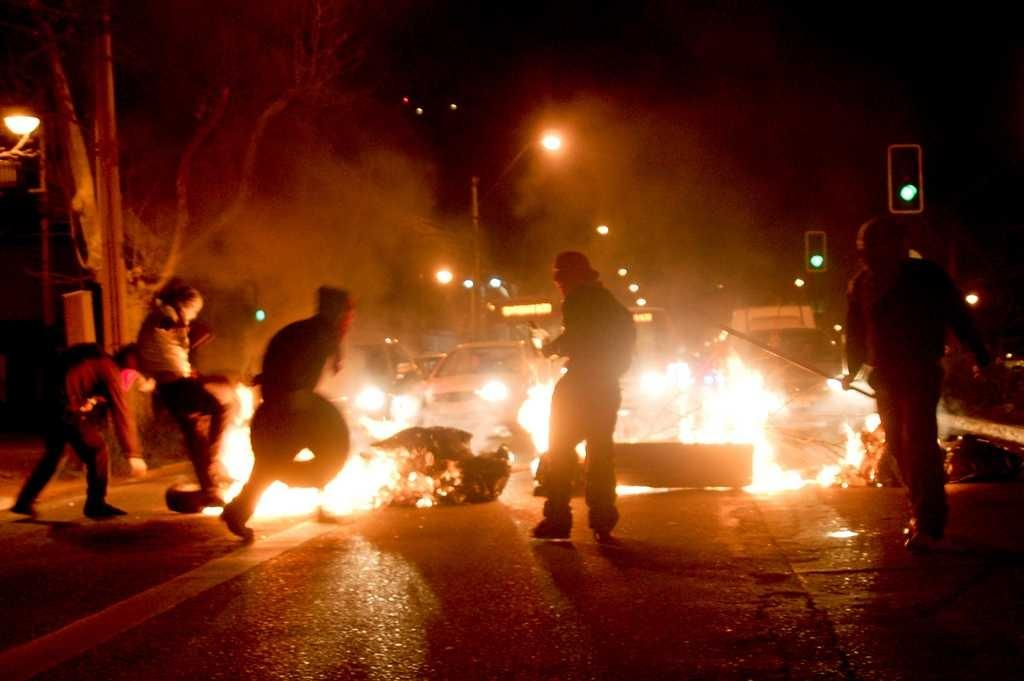fire: (713, 378, 780, 438), (323, 473, 395, 523), (222, 428, 252, 487), (527, 390, 553, 450)
